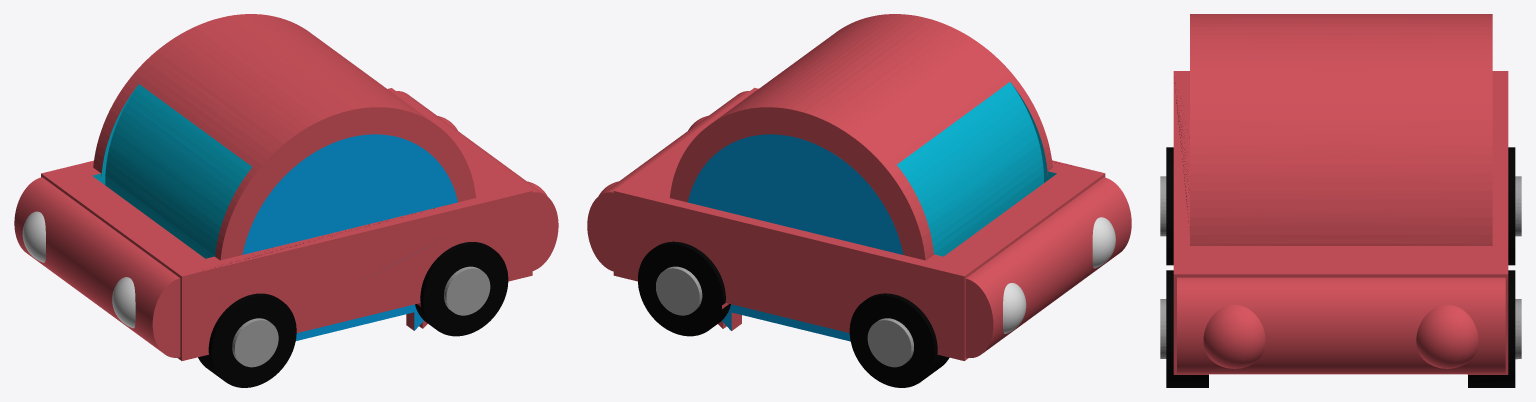
The model's file is car.glb.
3 renders of one model, left to right at view 1: azimuth 30°, elevation 25°; view 2: azimuth 150°, elevation 25°; view 3: azimuth 270°, elevation 25°, orthographic. The views are drawn at different scales.
Bounding box in the file's own units: 0.0487 × 0.0265 × 0.03.
